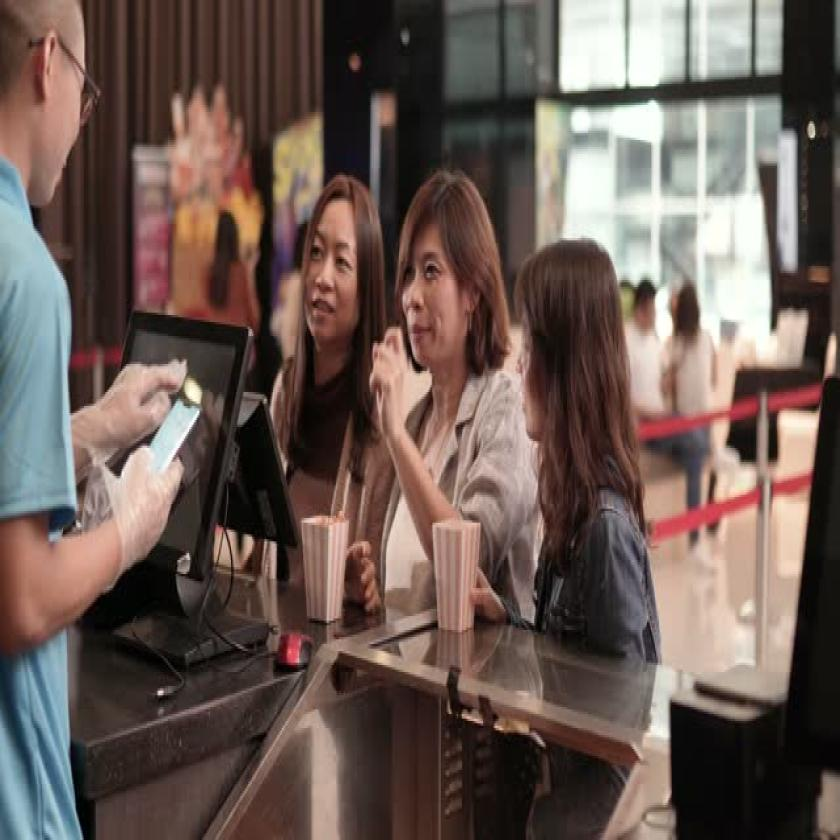Sin_casco: (516, 222, 622, 467), (397, 166, 494, 388), (298, 159, 376, 402)
